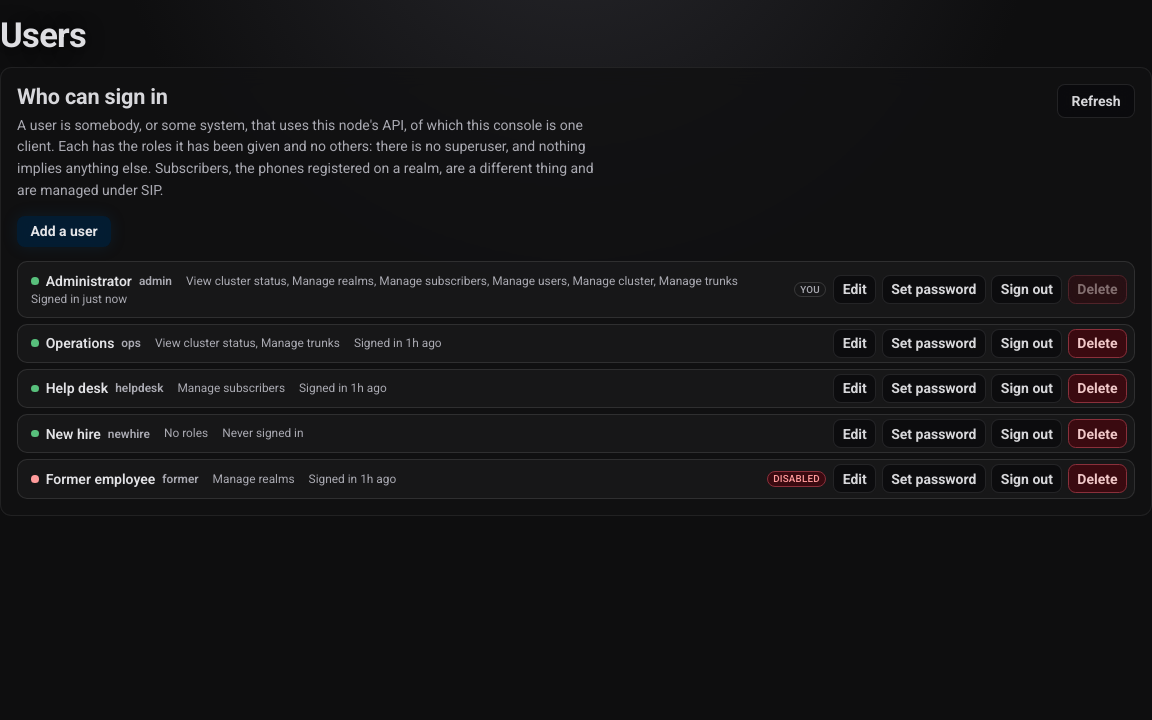
UsersScreen › keeps Manage trunks when another role is ticked
Click the button with aria-label "Edit ops" at [855, 343], box [833,329,876,358]
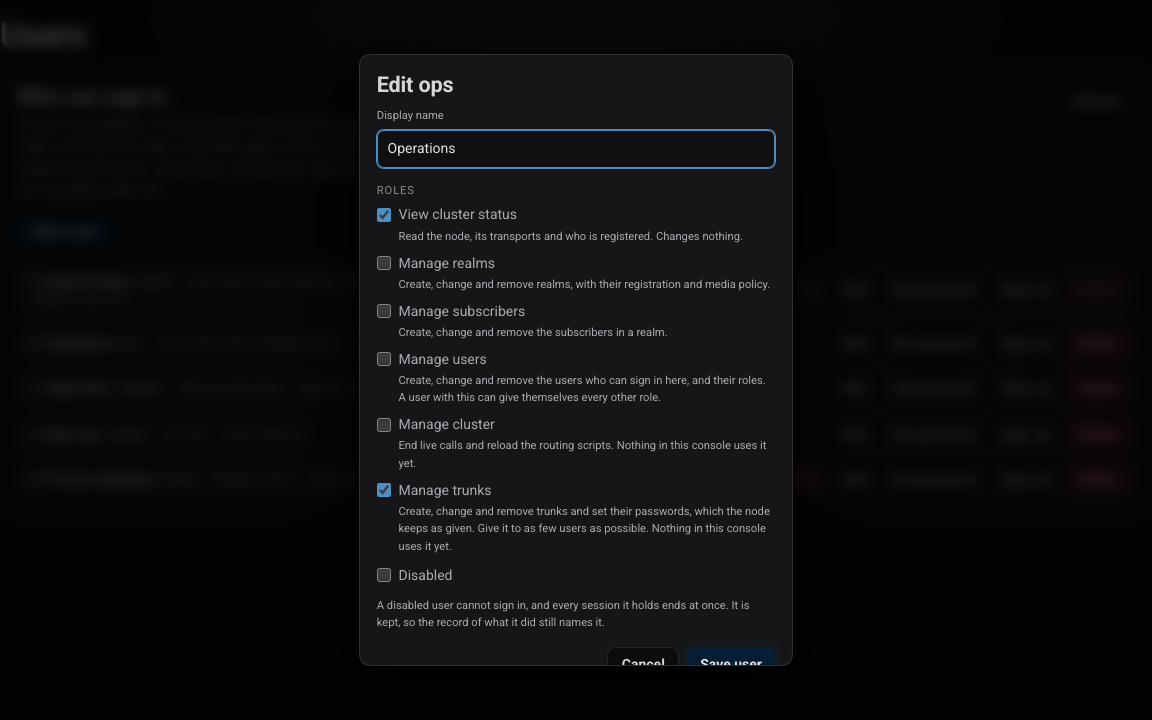
expect the checkbox labelled "Manage trunks" is checked: met, box [377,483,391,497]
Click the checkbox labelled "Manage realms" at [384, 263], box [377,256,391,270]
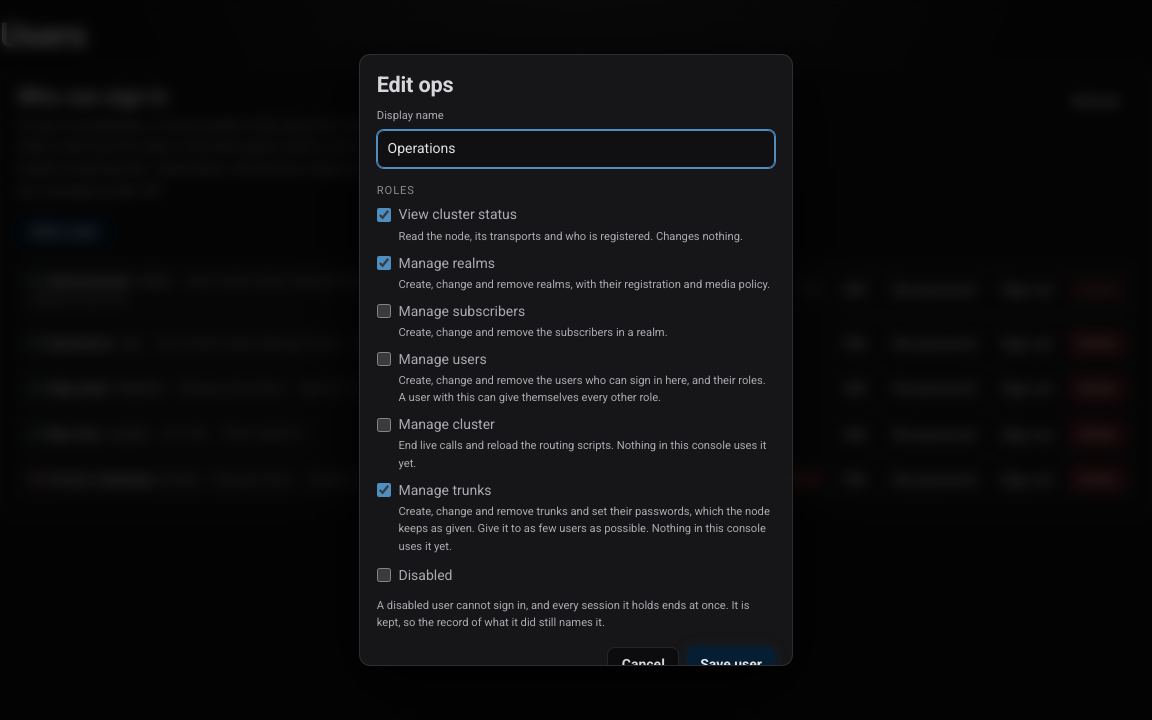
Click the button "Save user" at [731, 664], box [687,647,775,680]
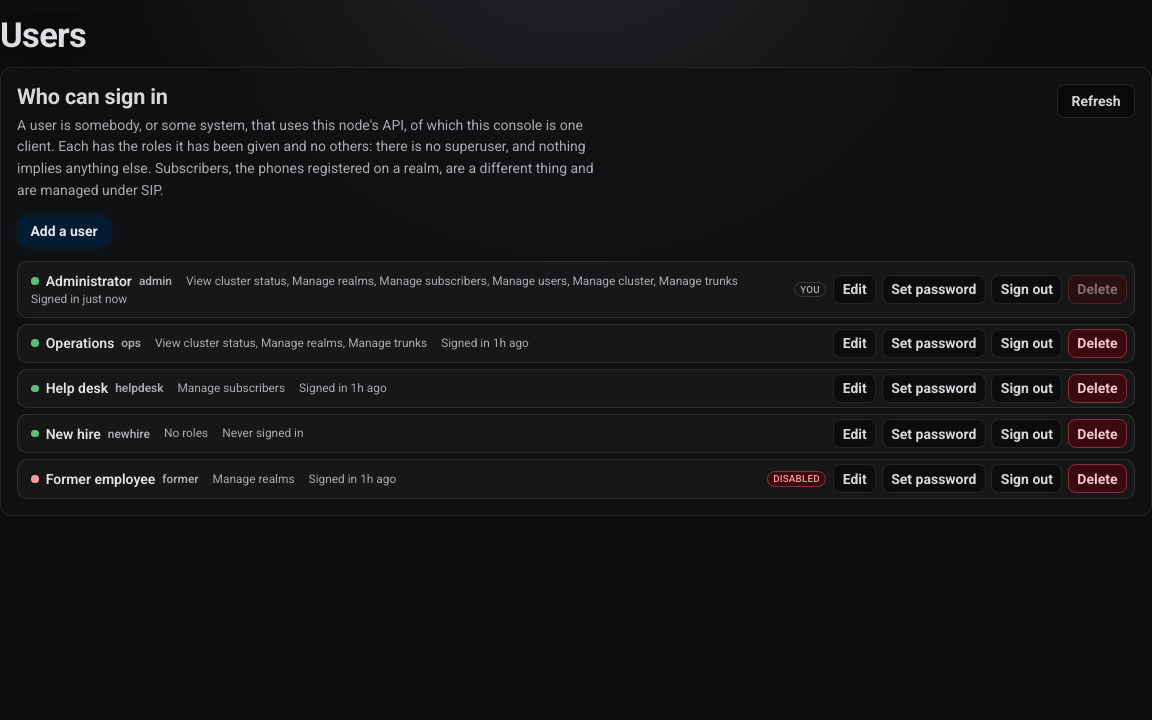
expect the dialog is gone: met
